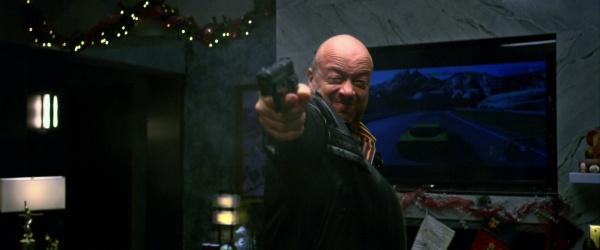Gun: (256, 57, 299, 111)
